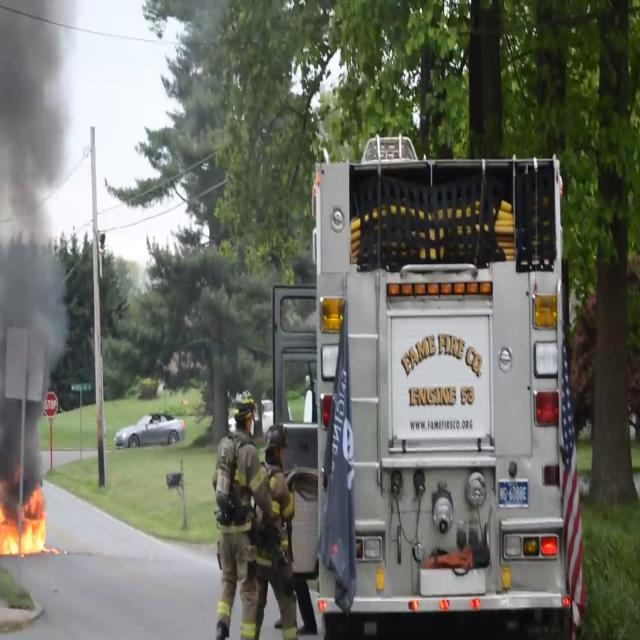Fire: (0, 478, 48, 562)
Smoke: (0, 0, 75, 493)
